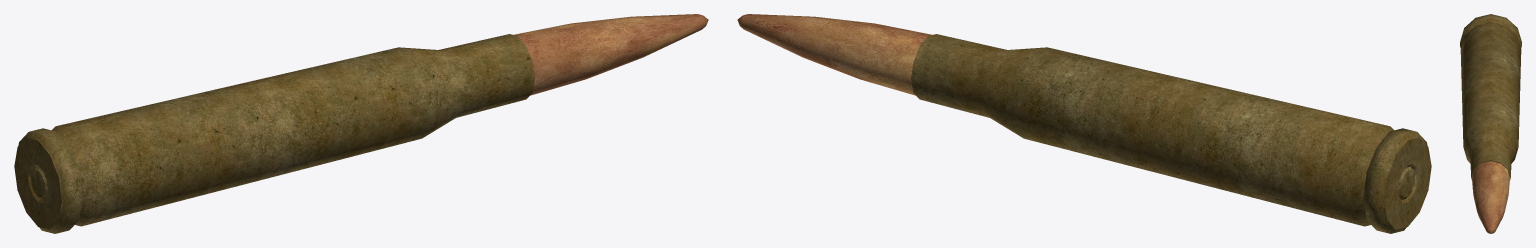
File: bullet.obj
3 renders of one model, left to right at view 1: azimuth 30°, elevation 25°; view 2: azimuth 150°, elevation 25°; view 3: azimuth 270°, elevation 25°, orthographic. The views are drawn at different scales.
Visible parts, largest first — view 1: Cylinder001_Untitled, Sphere001_Untitled.001; view 2: Cylinder001_Untitled, Sphere001_Untitled.001; view 3: Cylinder001_Untitled, Sphere001_Untitled.001.
Part boxes in pixels (x1,y1,x2,y2): Cylinder001_Untitled: (14, 34, 534, 233); Sphere001_Untitled.001: (513, 14, 708, 95); Cylinder001_Untitled: (911, 34, 1431, 233); Sphere001_Untitled.001: (737, 14, 932, 95); Cylinder001_Untitled: (1460, 14, 1521, 179); Sphere001_Untitled.001: (1472, 161, 1509, 233).
Bounding box in the file's own units: 5.17 × 0.7056 × 0.7056.
Materials: 2 (2 with a texture image).
